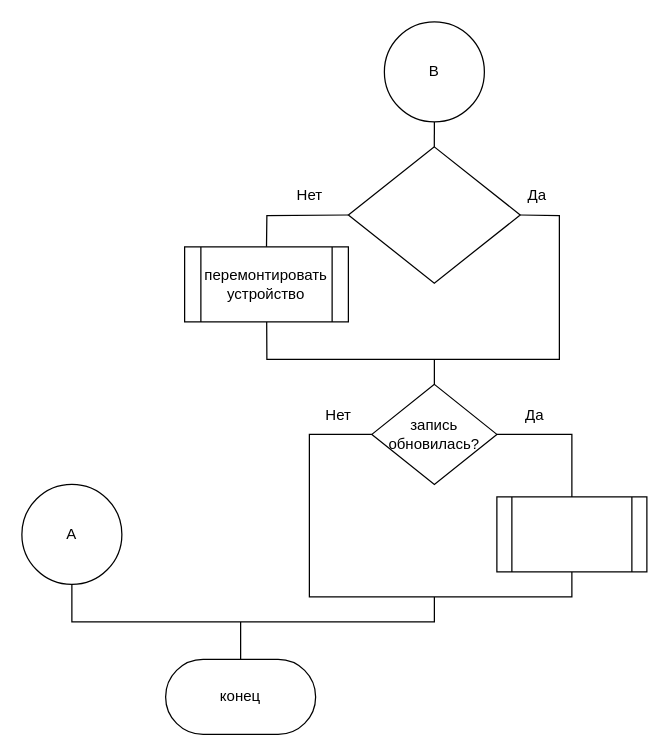
The diagram is 669 pixels wide and 756 high, and some of its shapes have lost their labels. The shapes that lost their labels are listed below. From the top down, each one's centre as x and y in pixels, then its label:
At point 433,214: "текущий режим монтирования равен desired ?".
At point 571,534: "сохранить обновлённую запись".
